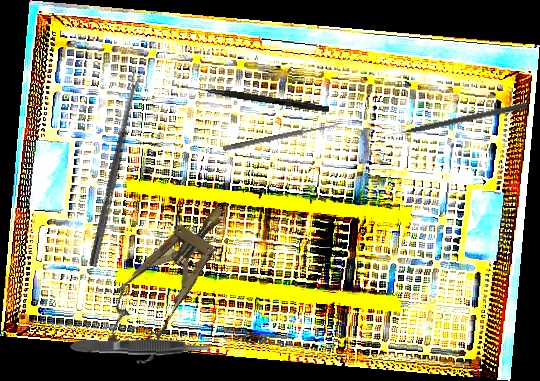Hook Surgical: (179, 83, 330, 113)
Pusher: (383, 101, 528, 139)
Speculum: (90, 187, 249, 371)
Surgical Spoon: (88, 71, 143, 268), (222, 121, 339, 153)
Tissue Forceps: (69, 335, 215, 358)
